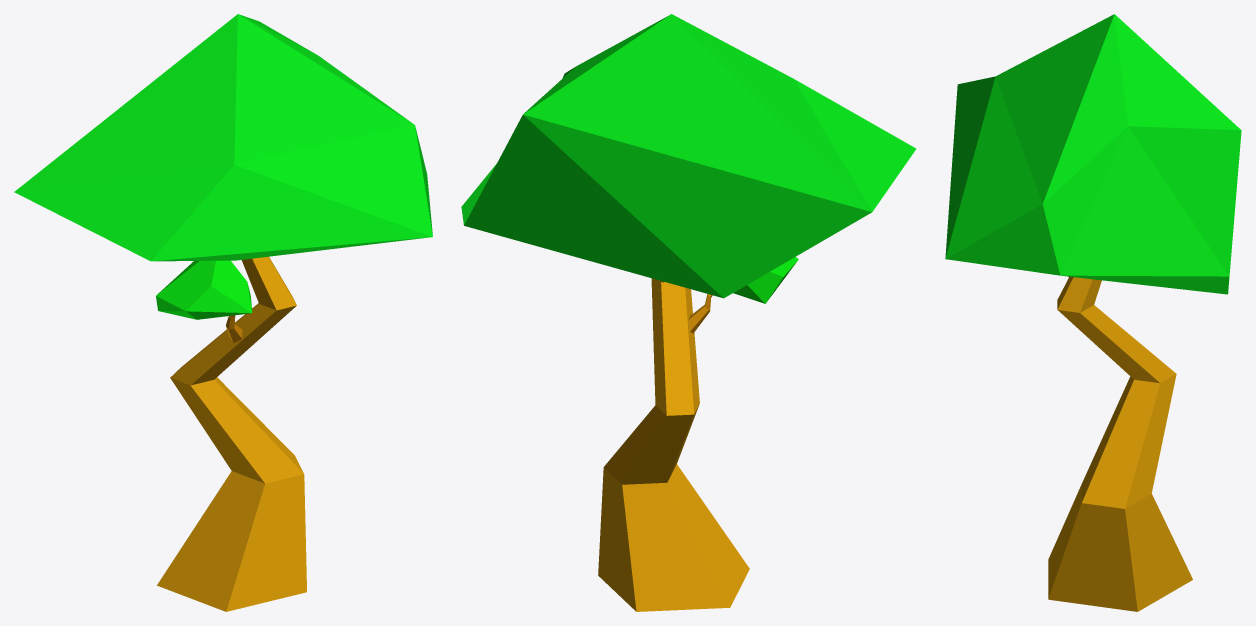
The model's file is tree.glb.
3 renders of one model, left to right at view 1: azimuth 30°, elevation 25°; view 2: azimuth 150°, elevation 25°; view 3: azimuth 270°, elevation 25°, orthographic.
Visible parts, largest first — view 1: Icosphere, Cylinder, Icosphere.001; view 2: Icosphere, Cylinder, Icosphere.001; view 3: Icosphere, Cylinder.
Part boxes in pixels (x1=…): Icosphere: x1=14, y1=14, x2=432, y2=261; Cylinder: x1=157, y1=256, x2=306, y2=611; Icosphere.001: x1=156, y1=260, x2=252, y2=319; Icosphere: x1=461, y1=14, x2=916, y2=298; Cylinder: x1=598, y1=278, x2=749, y2=611; Icosphere.001: x1=733, y1=257, x2=798, y2=303; Icosphere: x1=945, y1=14, x2=1241, y2=294; Cylinder: x1=1048, y1=276, x2=1192, y2=611.
Size of the model in its own units: 7.99 by 11.51 by 5.44.
